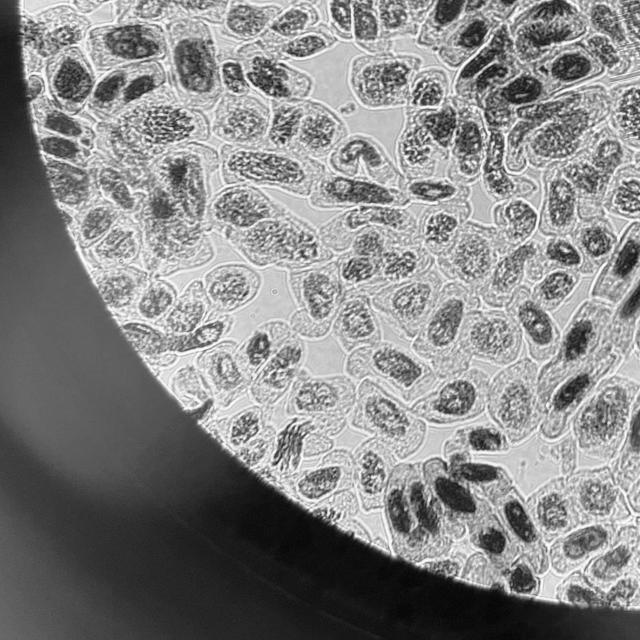prophase: (269, 414, 314, 476)
